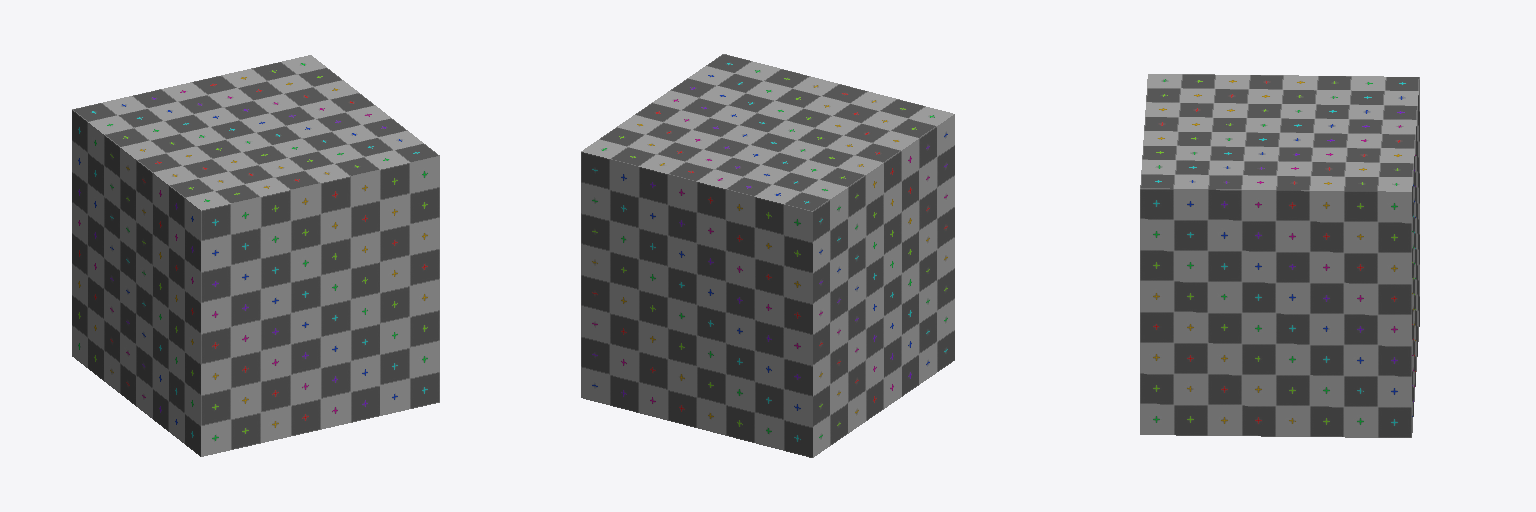
3 renders of one model, left to right at view 1: azimuth 30°, elevation 25°; view 2: azimuth 150°, elevation 25°; view 3: azimuth 270°, elevation 25°, orthographic.
Visible parts, largest first — view 1: Cube.002; view 2: Cube.002; view 3: Cube.002.
Boxes of the visible parts, <box> form: Cube.002: <box>72,55,439,456</box>; Cube.002: <box>581,54,954,457</box>; Cube.002: <box>1140,74,1419,437</box>.
Size of the model in its own units: 1.06 by 1.03 by 1.06.
1 materials, 1 textured.